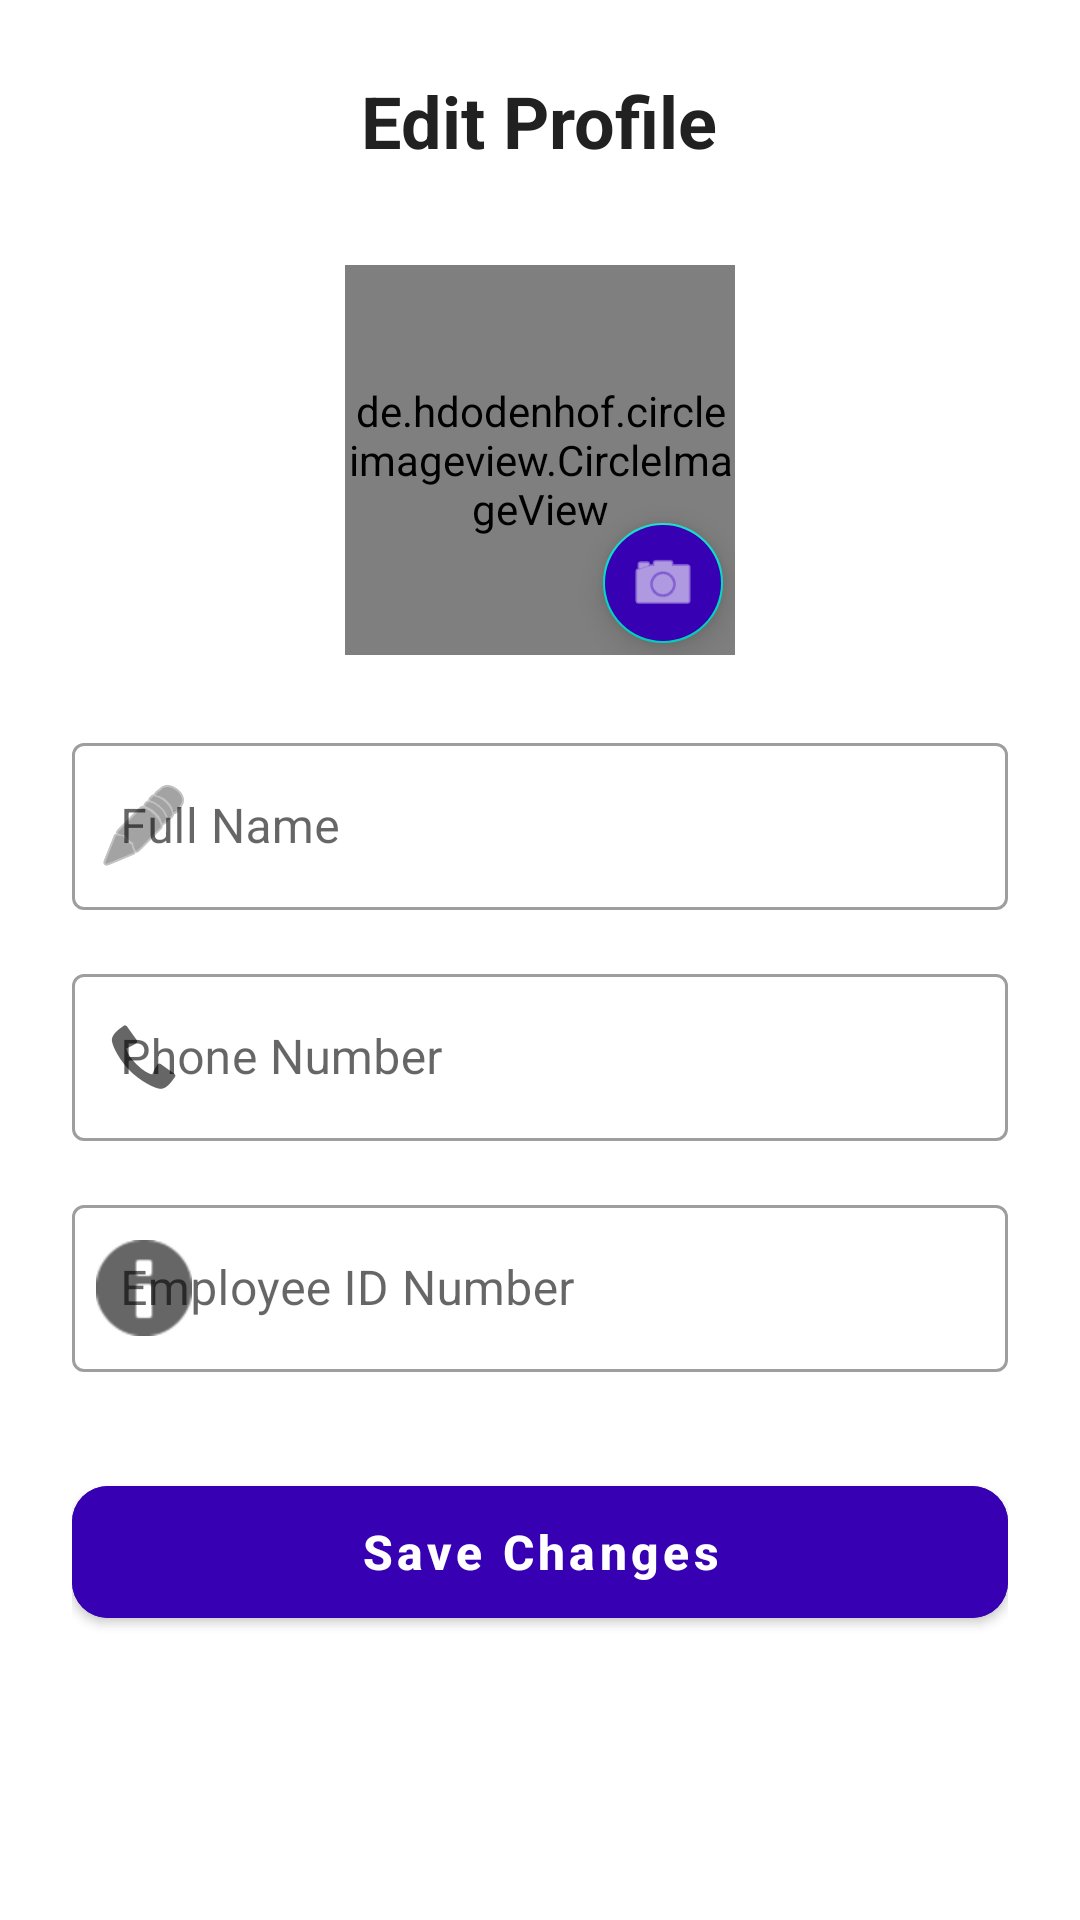

Locate icon controls on the screen. Image size 1080w x 1920h, boxes as detection(x1, y1, x2, y2).
camera: detection(603, 523, 723, 643)
